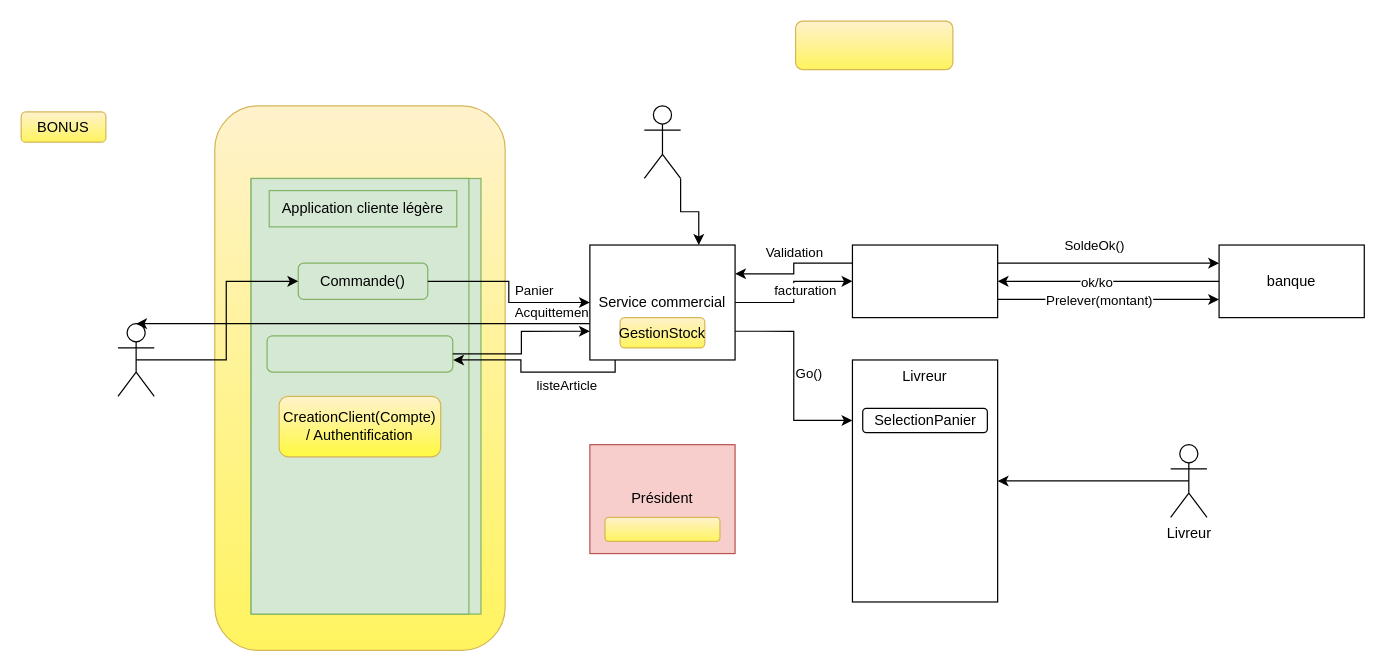
Some shapes in this 1385 by 672 pixel diagram are drawn without their labels. Here are the shapes that lost their labels. From the top down, the centre of each, then its label:
(x=873, y=45): Class de test
(x=662, y=141): Commercial
(x=924, y=281): Service comptable
(x=135, y=359): Client
(x=359, y=353): ConsulterListeArticles
(x=662, y=528): Suivi laTaime
